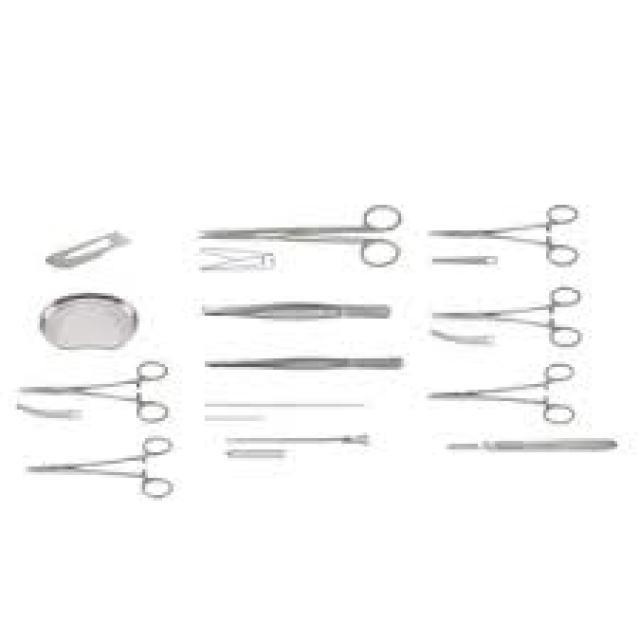tools_table: (12, 147, 640, 552)
